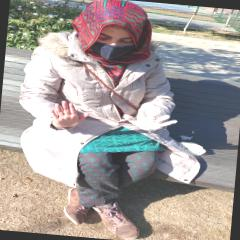gloved: (123, 108, 176, 132)
not-gloved: (49, 102, 88, 132)
